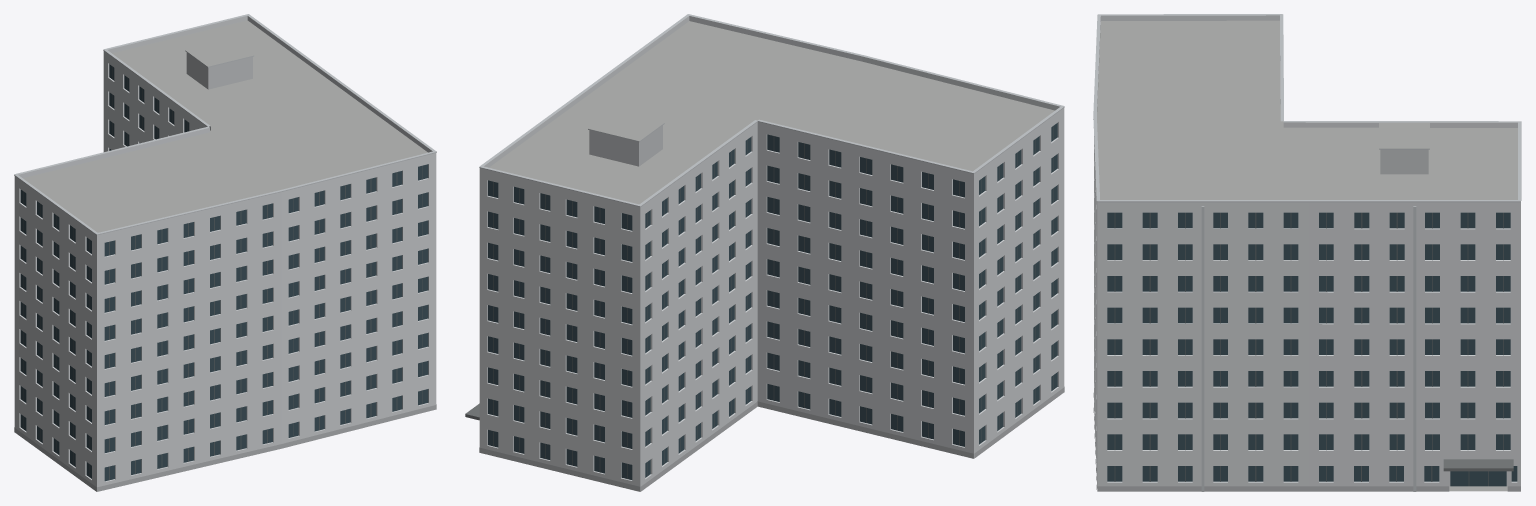
The picture shows the model from 3 angles, left to right: view 1: azimuth 30°, elevation 25°; view 2: azimuth 150°, elevation 25°; view 3: azimuth 270°, elevation 25°; orthographic projection. The views are drawn at different scales.
Visible parts, largest first — view 1: industrialAnnex__wall, industrialAnnex__roof, industrialAnnex__glass, industrialAnnex__parapet, industrialAnnex__trim, industrialAnnex__frame, industrialAnnex__base, industrialAnnex__wall2; view 2: industrialAnnex__wall, industrialAnnex__roof, industrialAnnex__glass, industrialAnnex__parapet, industrialAnnex__trim, industrialAnnex__frame, industrialAnnex__base, industrialAnnex__wall2; view 3: industrialAnnex__wall, industrialAnnex__roof, industrialAnnex__glass, industrialAnnex__trim, industrialAnnex__parapet, industrialAnnex__frame, industrialAnnex__base, industrialAnnex__wall2, industrialAnnex__canopy.
Part boxes in pixels (x1,y1,x2,y2): industrialAnnex__wall: [14, 54, 436, 491]; industrialAnnex__roof: [23, 20, 427, 232]; industrialAnnex__glass: [20, 64, 428, 481]; industrialAnnex__parapet: [14, 15, 436, 238]; industrialAnnex__trim: [14, 14, 436, 234]; industrialAnnex__frame: [23, 66, 422, 480]; industrialAnnex__base: [14, 404, 436, 491]; industrialAnnex__wall2: [186, 52, 252, 89]; industrialAnnex__wall: [479, 112, 1064, 491]; industrialAnnex__roof: [489, 21, 1054, 204]; industrialAnnex__glass: [488, 123, 1057, 479]; industrialAnnex__parapet: [479, 16, 1064, 211]; industrialAnnex__trim: [479, 14, 1064, 206]; industrialAnnex__frame: [493, 125, 1053, 478]; industrialAnnex__base: [479, 387, 1064, 491]; industrialAnnex__wall2: [589, 125, 662, 166]; industrialAnnex__wall: [1094, 137, 1520, 488]; industrialAnnex__roof: [1097, 20, 1517, 491]; industrialAnnex__glass: [1107, 212, 1517, 486]; industrialAnnex__trim: [1093, 14, 1521, 491]; industrialAnnex__parapet: [1097, 15, 1520, 206]; industrialAnnex__frame: [1114, 212, 1503, 486]; industrialAnnex__base: [1093, 393, 1520, 491]; industrialAnnex__wall2: [1380, 149, 1428, 174]; industrialAnnex__canopy: [1443, 459, 1513, 471].
Bounding box in the file's own units: 47.82 × 35.4 × 44.13.
